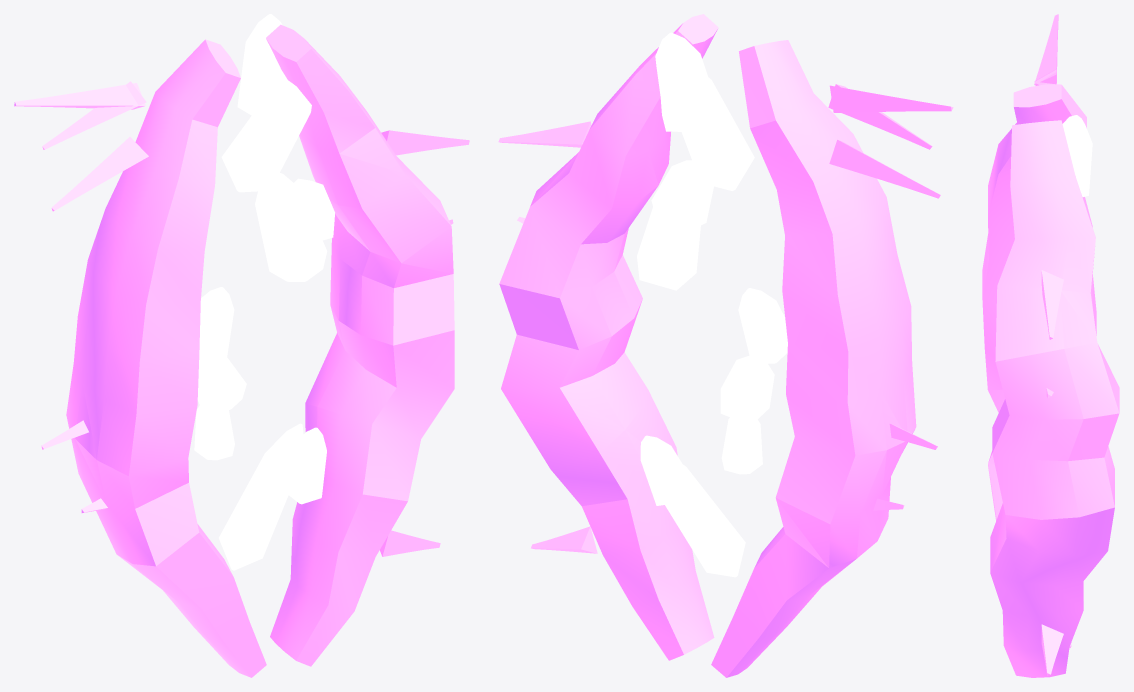
Rendered from vfx-mesh-library-rift-tear-5f672413__21905.glb.
3 views of the same model, side by side, from view 1: azimuth 30°, elevation 25°; view 2: azimuth 150°, elevation 25°; view 3: azimuth 270°, elevation 25° (orthographic). The views are drawn at different scales.
Visible parts, largest first — view 1: rift-tear; view 2: rift-tear; view 3: rift-tear.
Boxes of the visible parts, x1,y1,x2,y2 form: rift-tear: (14, 14, 469, 677); rift-tear: (498, 14, 953, 677); rift-tear: (982, 14, 1119, 677).
Bounding box in the file's own units: 0.7408 × 0.9896 × 0.2201.
